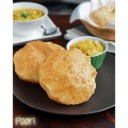poori: (40, 50, 97, 102), (14, 39, 67, 83)
